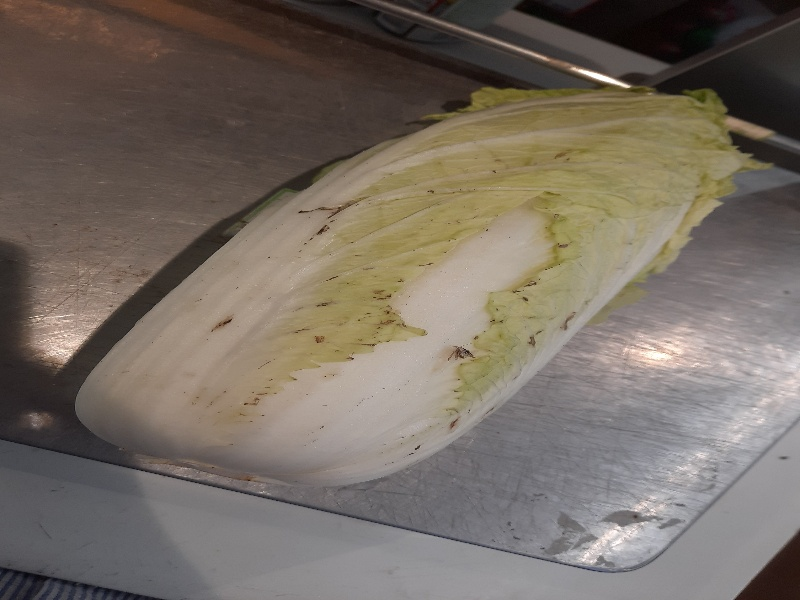vege: (52, 77, 771, 498)
